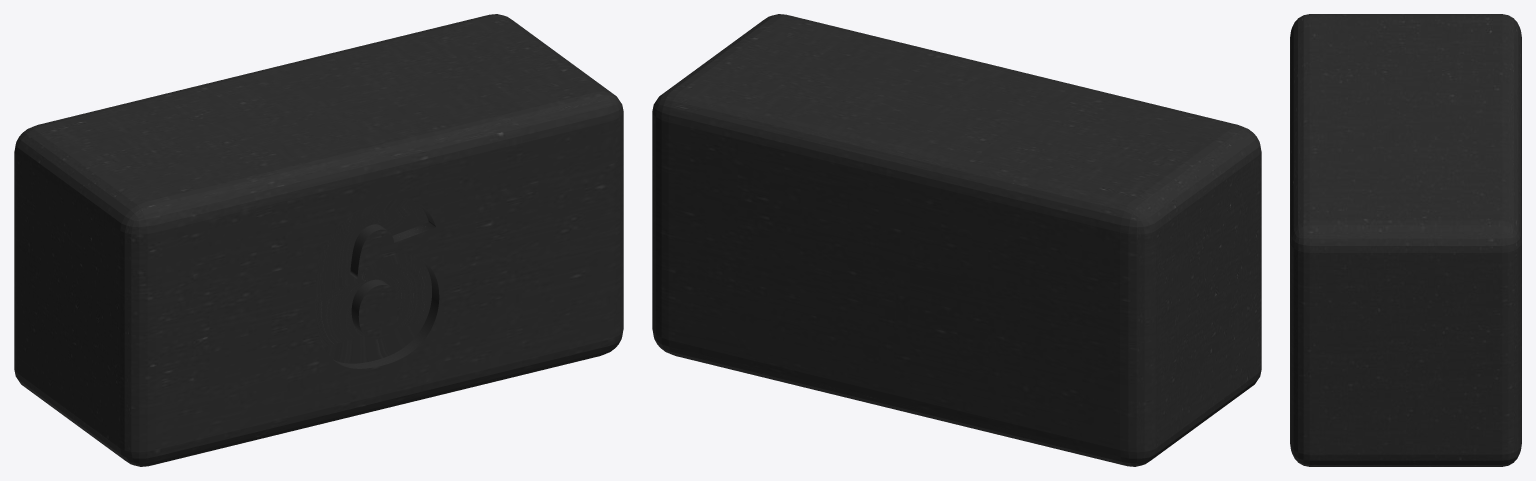
The model's file is btn_6.glb.
The picture shows the model from 3 angles, left to right: view 1: azimuth 30°, elevation 25°; view 2: azimuth 150°, elevation 25°; view 3: azimuth 270°, elevation 25°; orthographic projection. The views are drawn at different scales.
Visible parts, largest first — view 1: Cube.006; view 2: Cube.006; view 3: Cube.006.
Boxes of the visible parts, <box> form: Cube.006: <box>14,14,623,466</box>; Cube.006: <box>652,14,1261,466</box>; Cube.006: <box>1290,14,1521,466</box>.
Size of the model in its own units: 3.42 by 1.71 by 1.48.
Materials: 2 (2 with a texture image).
